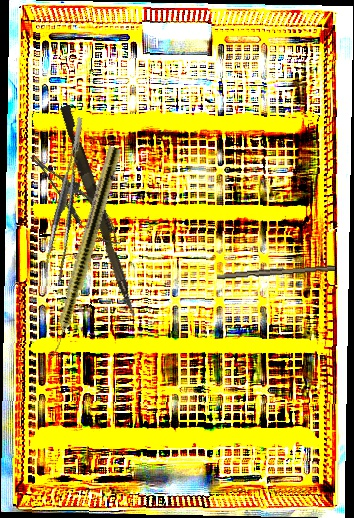Handpiece: (43, 144, 123, 368)
Needle Holder: (21, 144, 130, 256)
Pusher: (54, 104, 145, 318)
Scalpel Handle: (216, 261, 336, 282)
Tissue Forceps: (27, 116, 111, 283)
